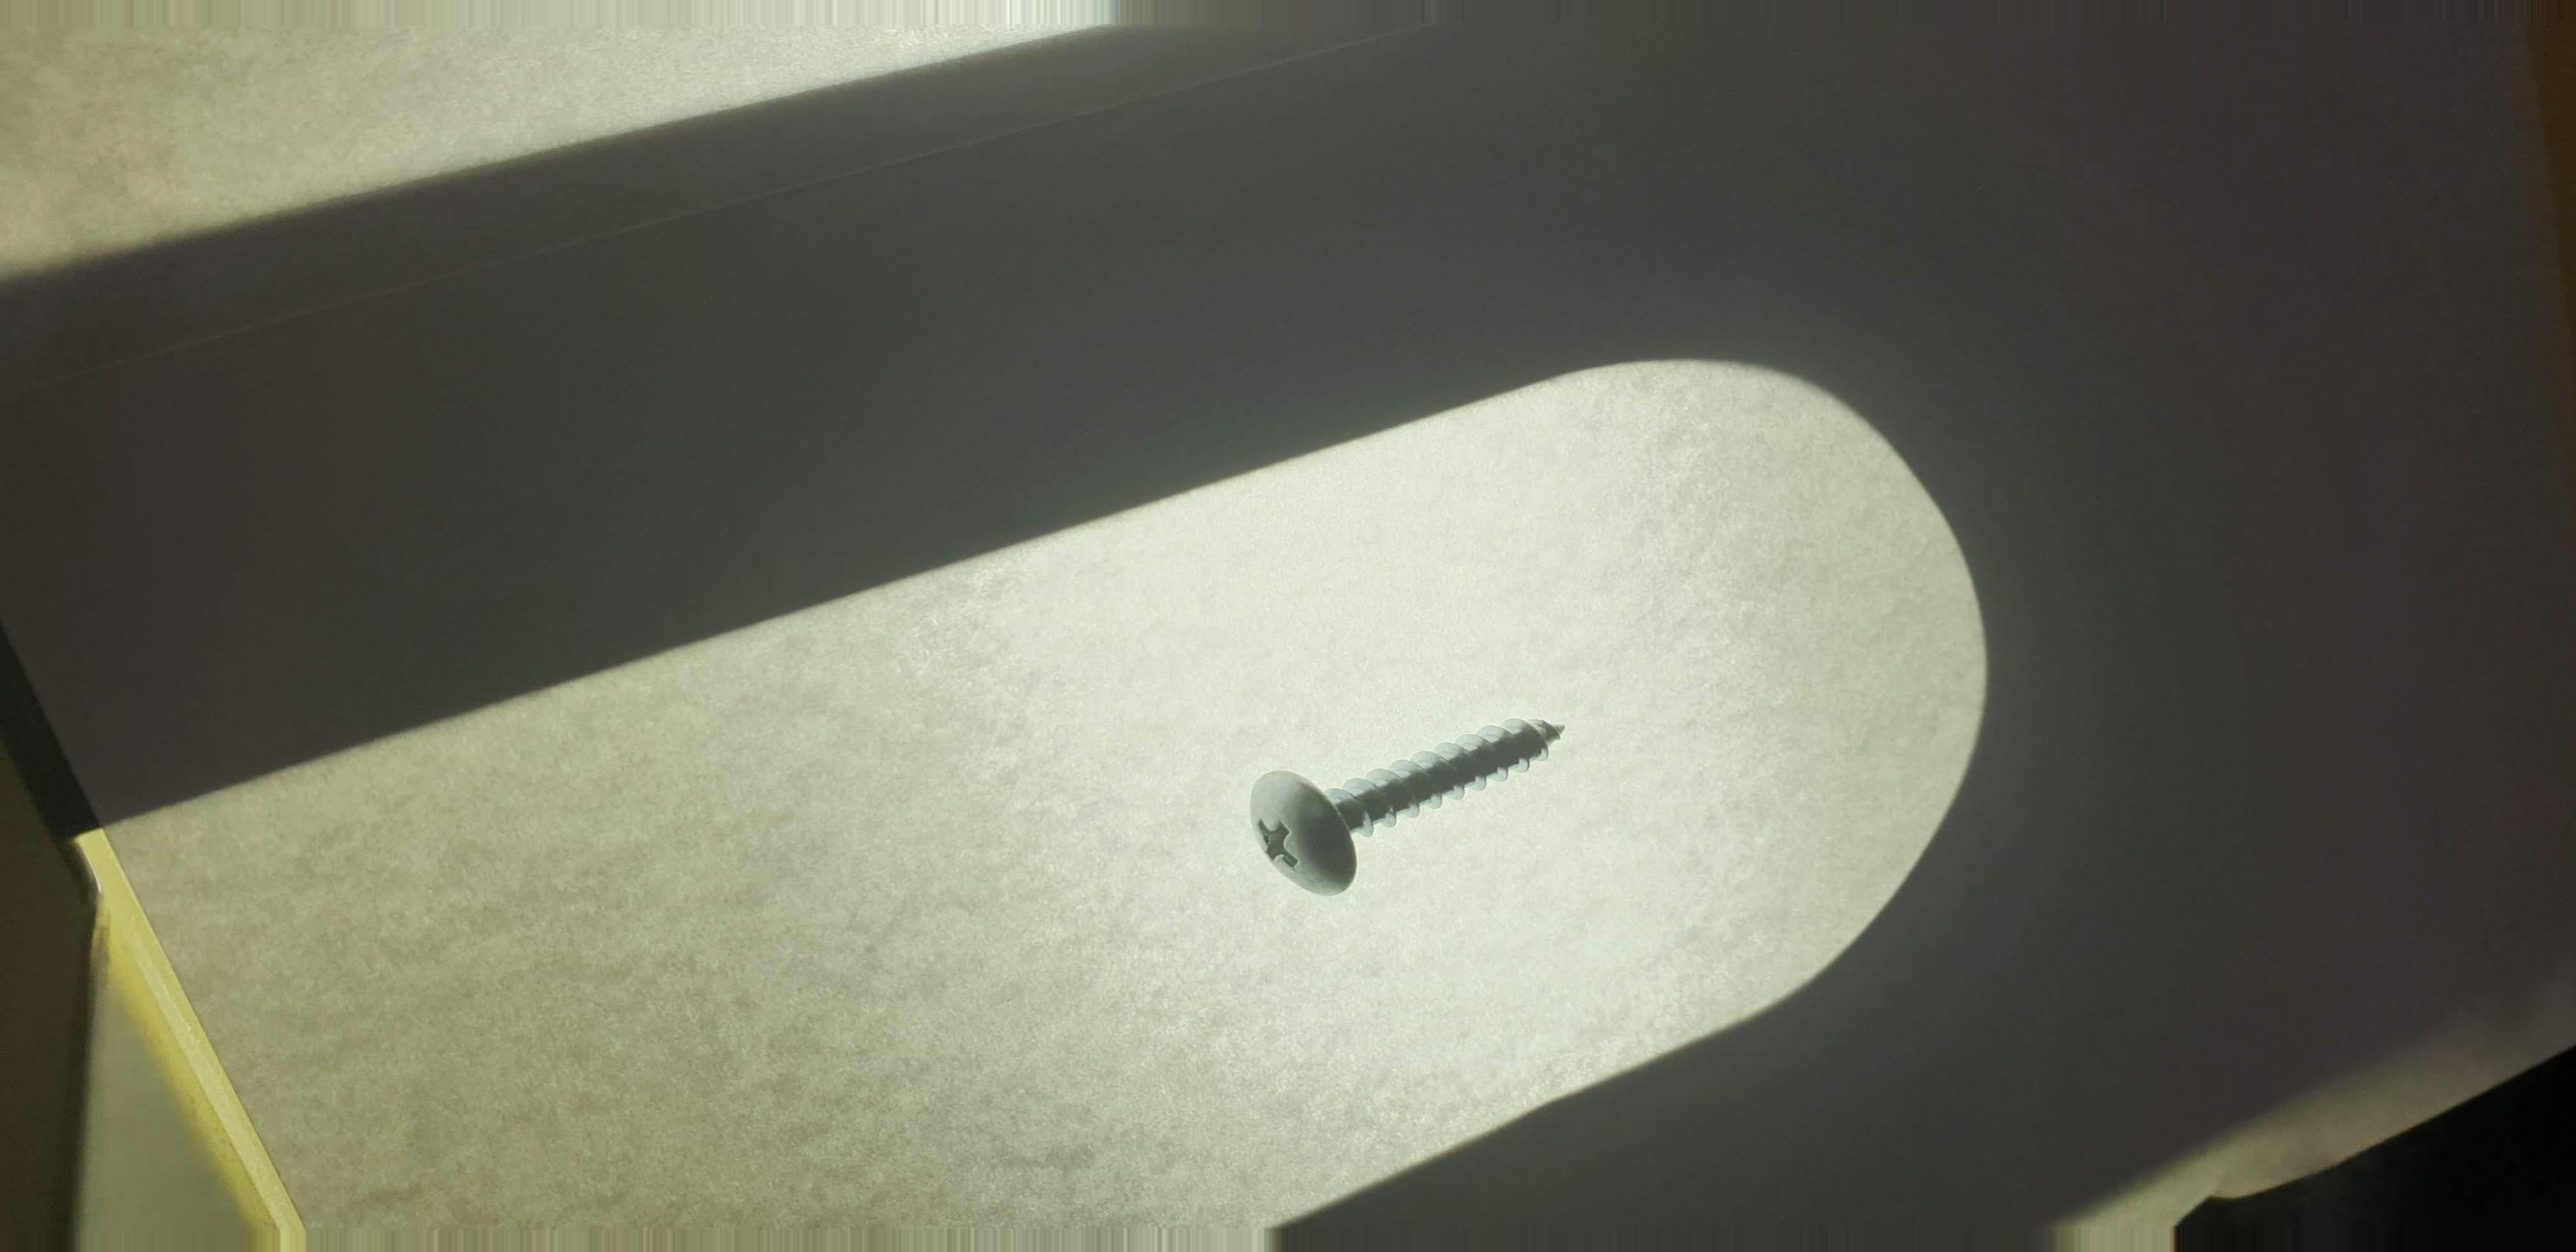S002: (1199, 664, 1644, 927)
